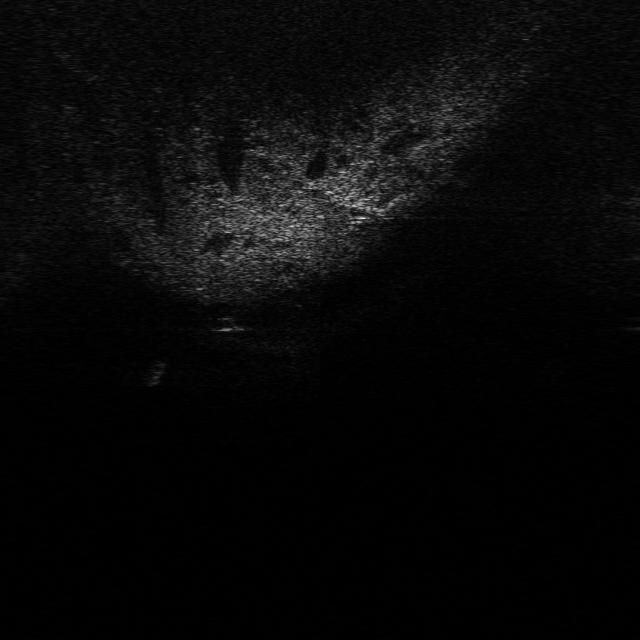cube: (207, 312, 252, 334)
cylinder: (143, 356, 168, 390)
